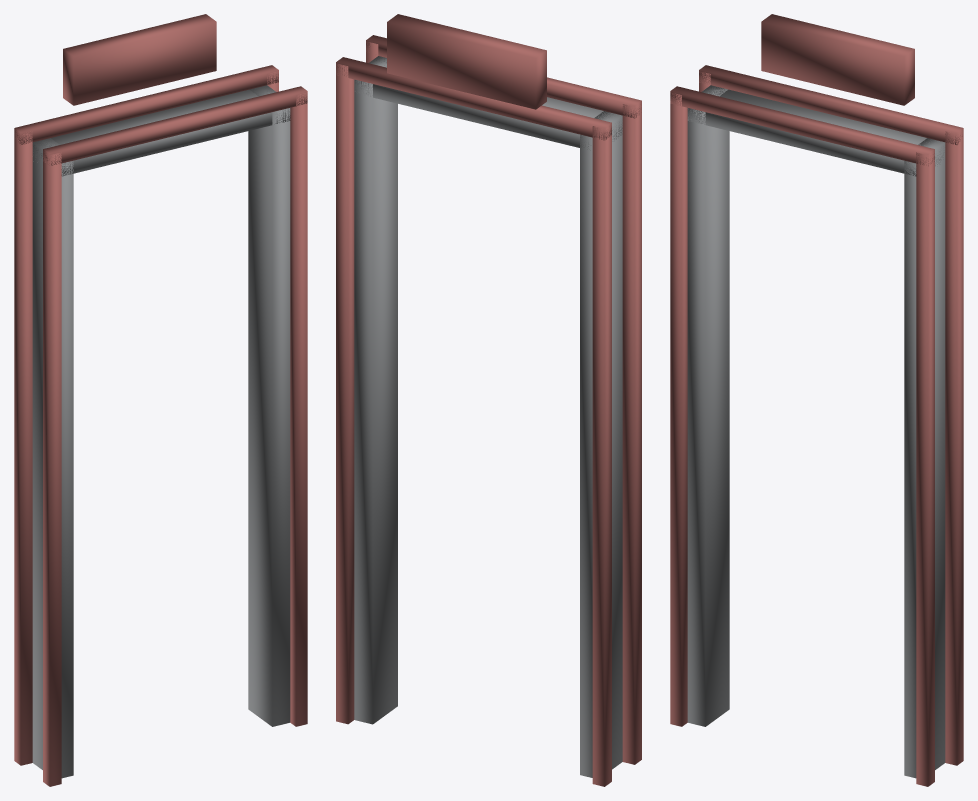
File: doorway_emergency_exit_w76_h220_d16.glb
3 views of the same model, side by side, from view 1: azimuth 30°, elevation 25°; view 2: azimuth 150°, elevation 25°; view 3: azimuth 330°, elevation 25° (orthographic). The views are drawn at different scales.
Parts seen in each view (by area): view 1: world; view 2: world; view 3: world.
Boxes of the visible parts, x1,y1,x2,y2 form: world: [14, 14, 307, 786]; world: [336, 14, 641, 786]; world: [670, 14, 963, 786].
Size of the model in its own units: 0.9868 by 2.53 by 0.2932.
